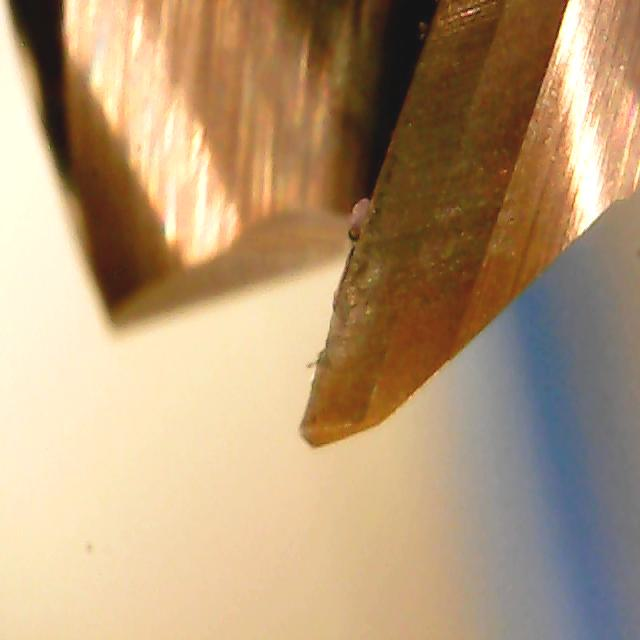Tool-wear-class-1: (276, 285, 438, 456)
